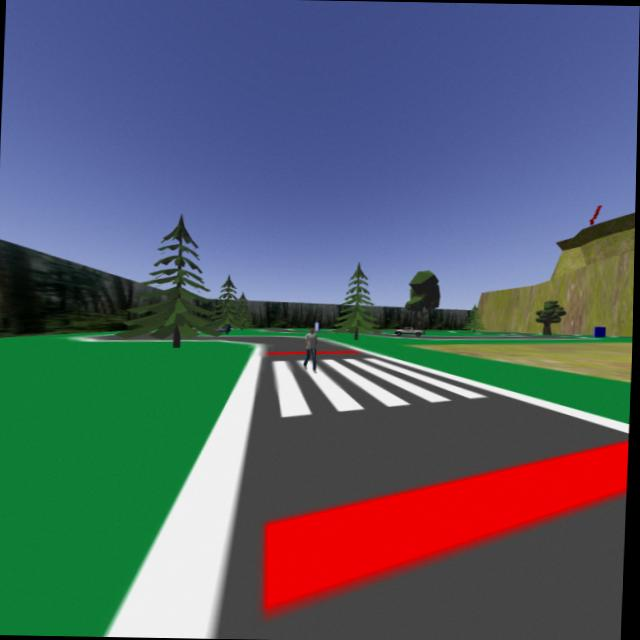pedestrian: (300, 324, 322, 376)
